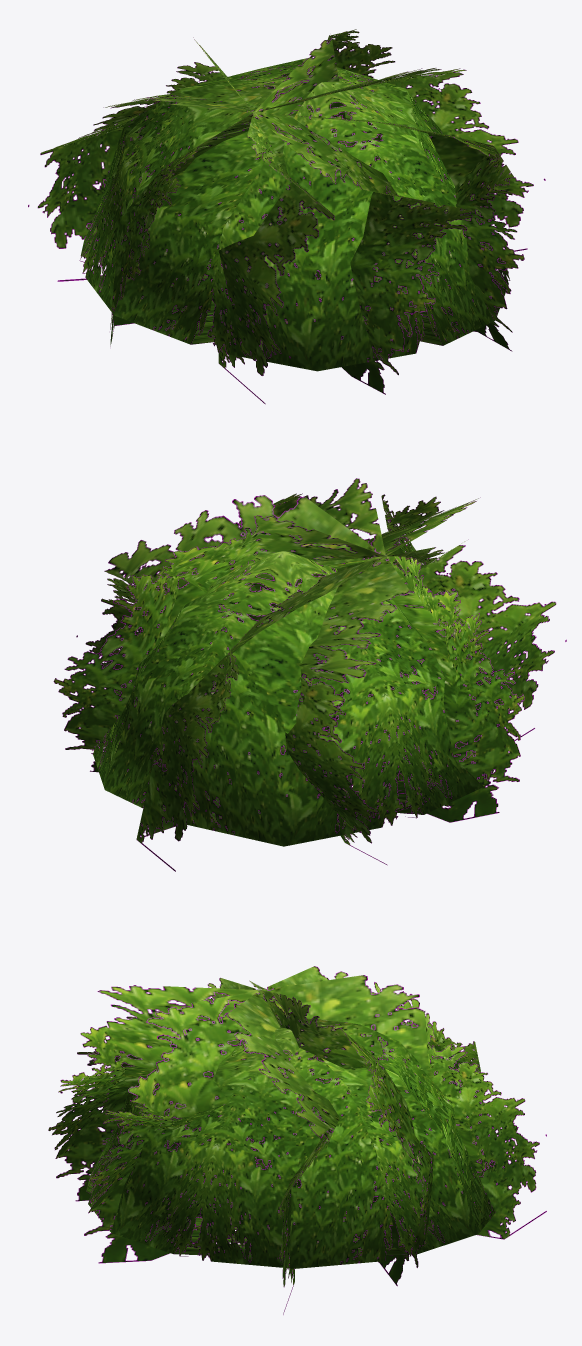
The model's file is n_SWEtree03-b.glb.
The picture shows the model from 3 angles, top to bottom: view 1: azimuth 30°, elevation 25°; view 2: azimuth 150°, elevation 25°; view 3: azimuth 270°, elevation 25°; orthographic projection. The views are drawn at different scales.
Visible parts, largest first — view 1: n_SWEtree03-b; view 2: n_SWEtree03-b; view 3: n_SWEtree03-b.
Boxes of the visible parts, box(x1,y1,x2,y2) form: n_SWEtree03-b: box(28, 29, 545, 404); n_SWEtree03-b: box(53, 478, 566, 871); n_SWEtree03-b: box(48, 966, 546, 1314).
Size of the model in its own units: 2.41 by 1.2 by 2.58.
1 material, 1 textured.
